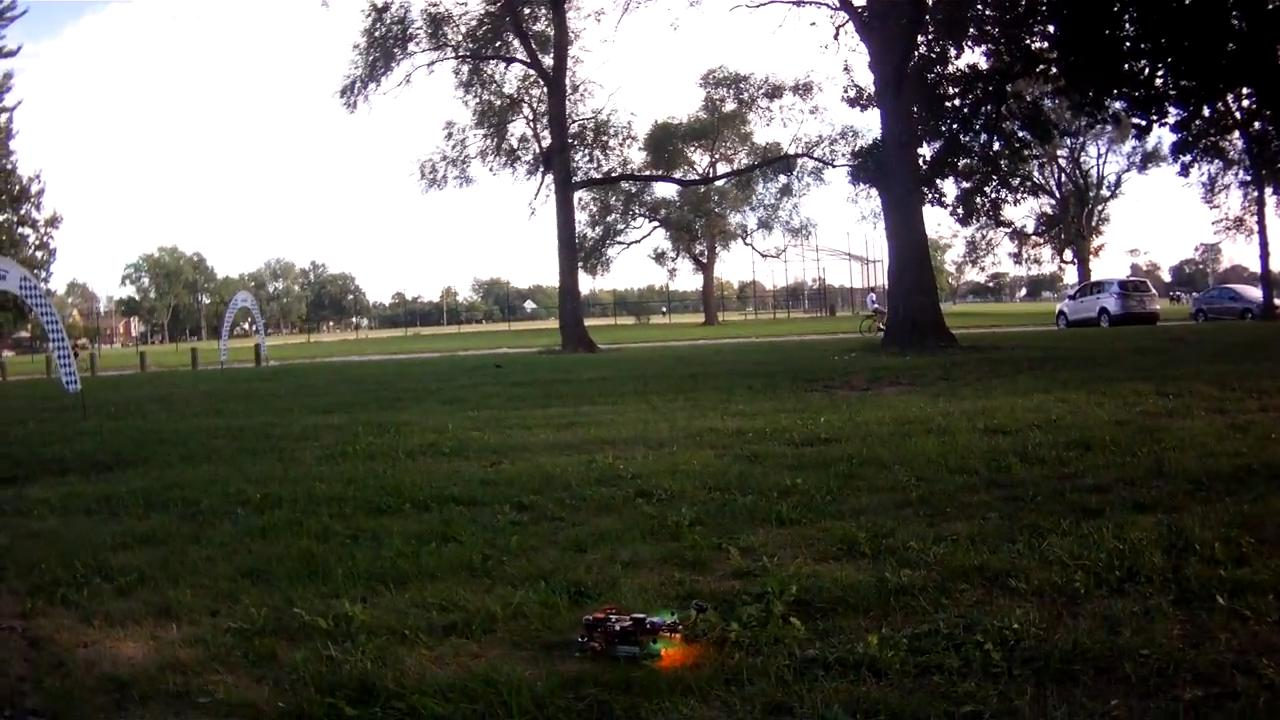gate: (218, 289, 266, 367)
